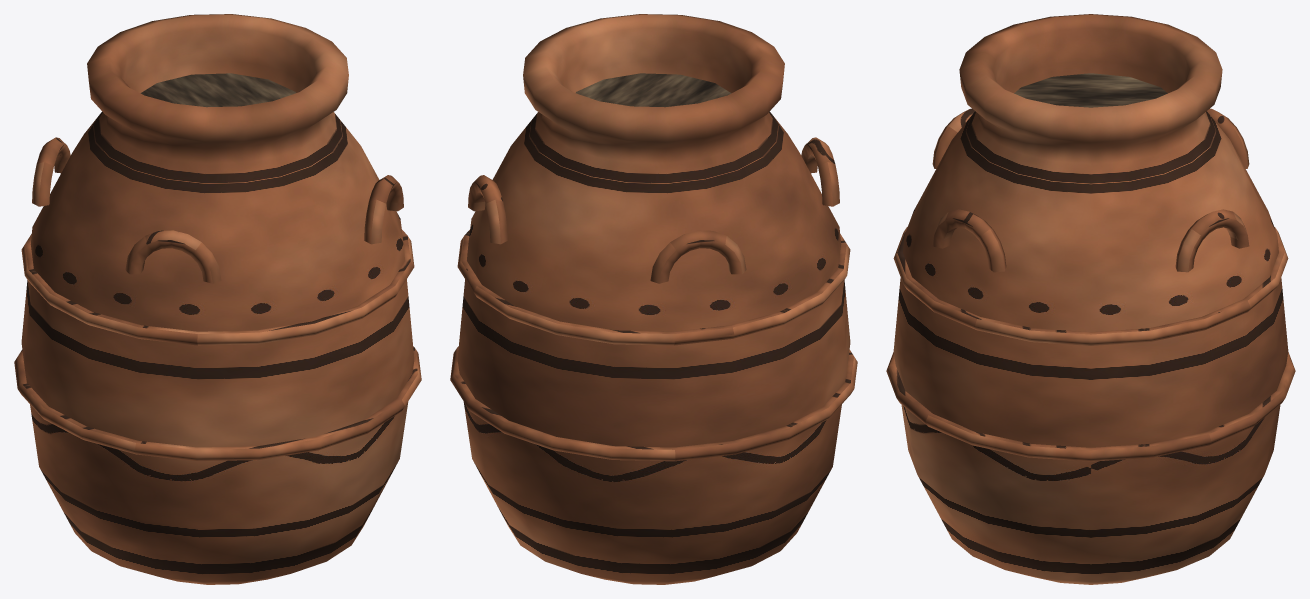
The model's file is pithos_grande.gltf.
3 views of the same model, side by side, from view 1: azimuth 30°, elevation 25°; view 2: azimuth 150°, elevation 25°; view 3: azimuth 270°, elevation 25° (orthographic).
Parts seen in each view (by area): view 1: pithos_grande; view 2: pithos_grande; view 3: pithos_grande.
Part boxes in pixels (box(x1,y1,x2,y2)): pithos_grande: box(14, 14, 421, 584); pithos_grande: box(450, 14, 857, 584); pithos_grande: box(886, 14, 1295, 584).
Bounding box in the file's own units: 1.12 × 1.46 × 1.12.
2 materials, 2 textured.
